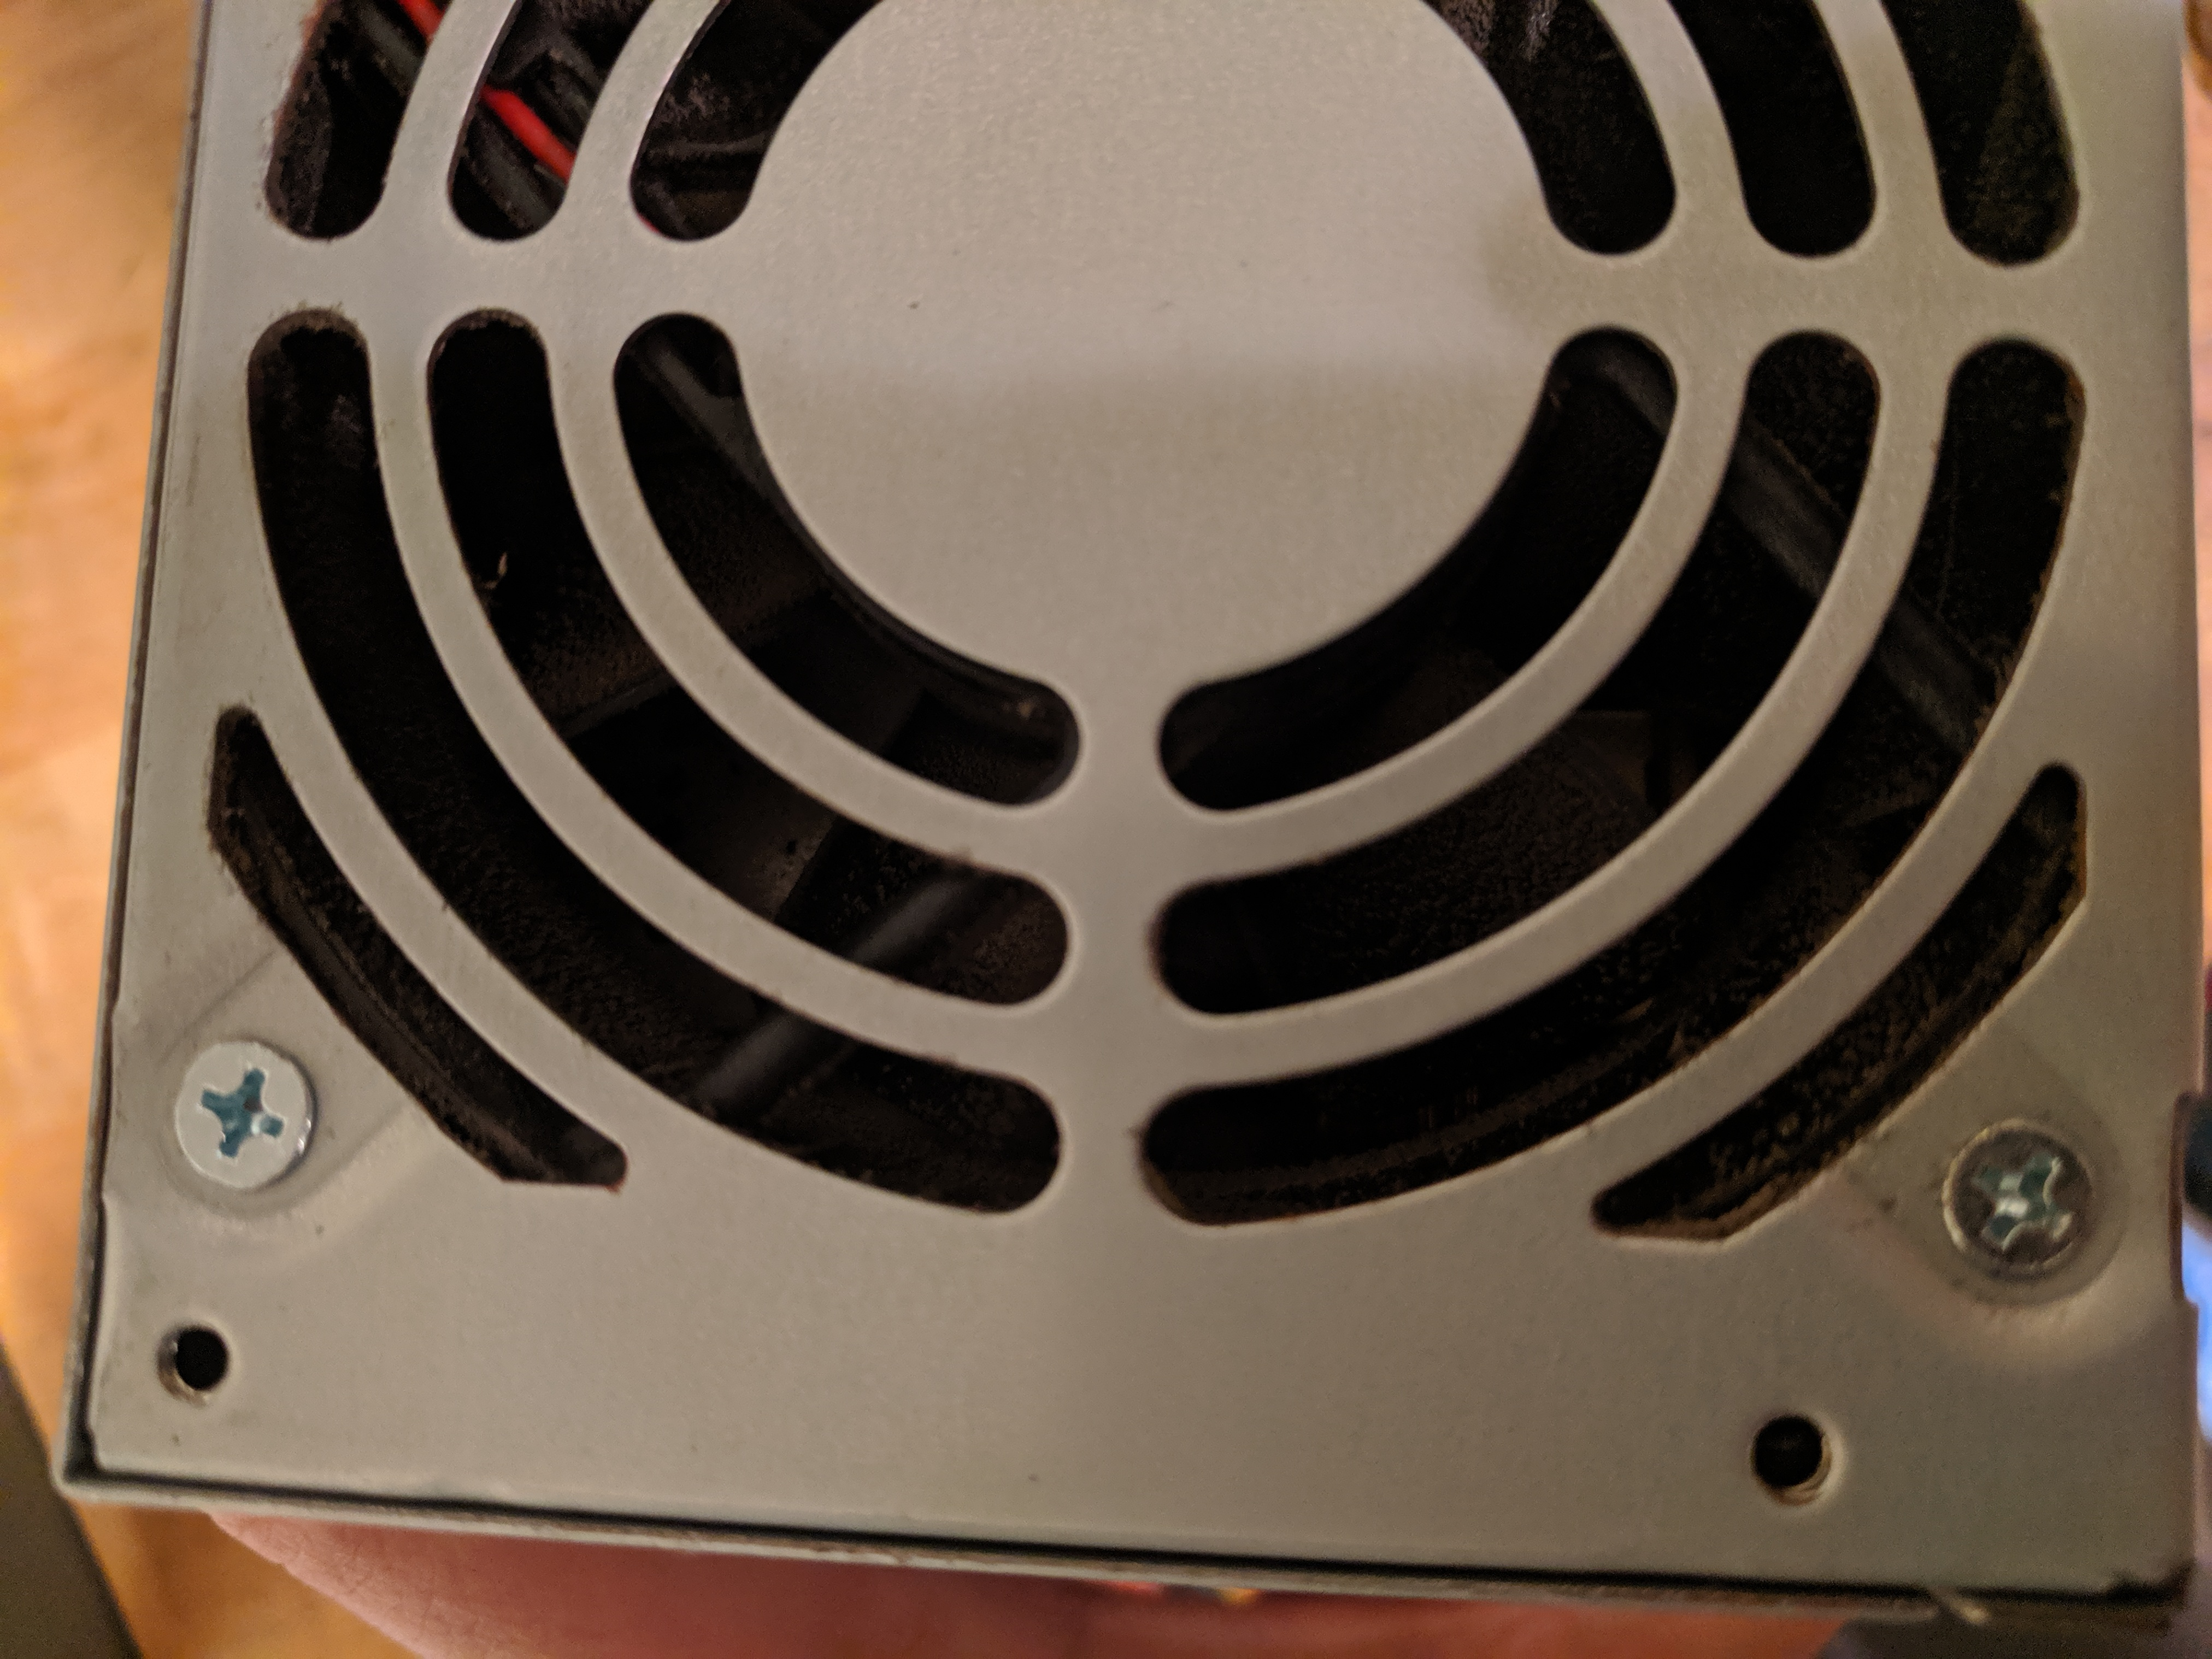cross_recessed_screw: (1937, 1112, 2102, 1281), (155, 1028, 320, 1187)
